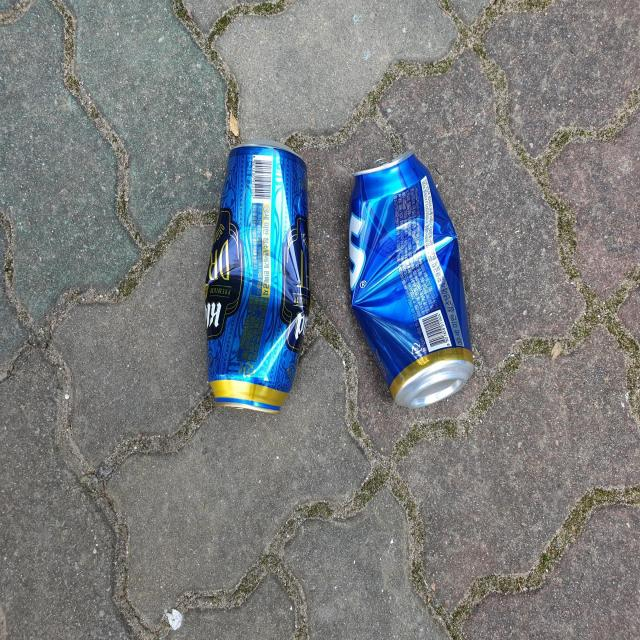can: (349, 149, 475, 408), (204, 139, 311, 414)
